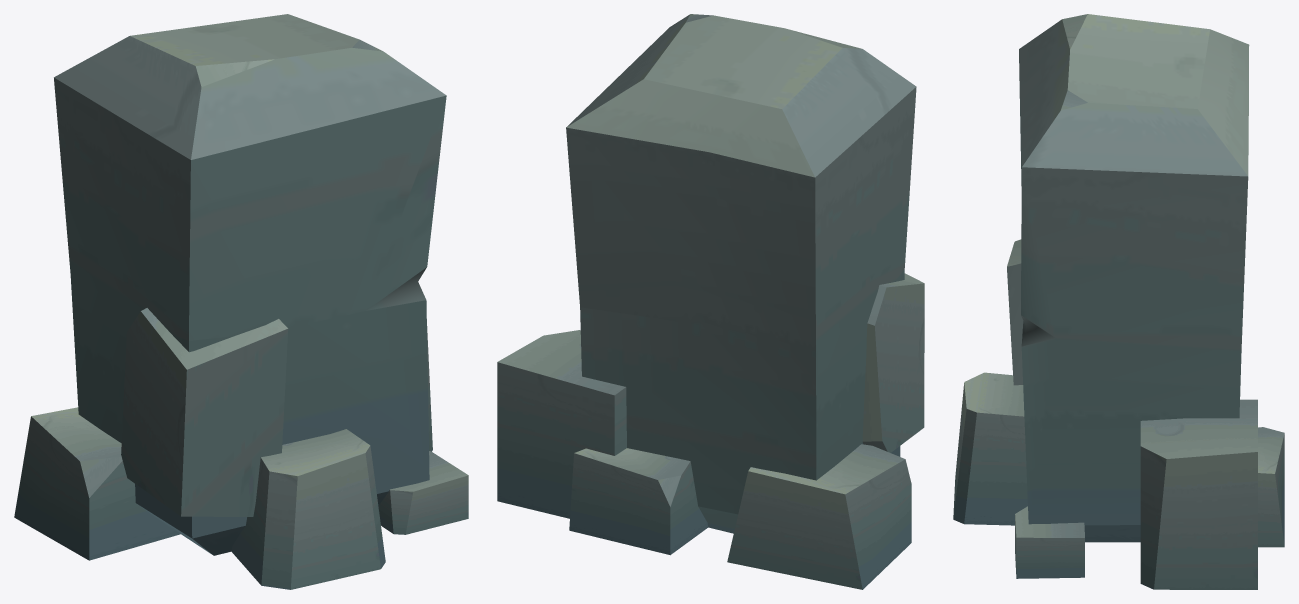
Rendered from Pillar1B-002_02_06_0726.fbx.
3 renders of one model, left to right at view 1: azimuth 30°, elevation 25°; view 2: azimuth 150°, elevation 25°; view 3: azimuth 270°, elevation 25°, orthographic. The views are drawn at different scales.
Visible parts, largest first — view 1: Monolith2; view 2: Monolith2; view 3: Monolith2.
Part boxes in pixels (x1,y1,x2,y2): Monolith2: [14, 14, 468, 589]; Monolith2: [497, 14, 924, 589]; Monolith2: [953, 14, 1284, 589].
Size of the model in its own units: 2.54 by 3.16 by 2.07.
